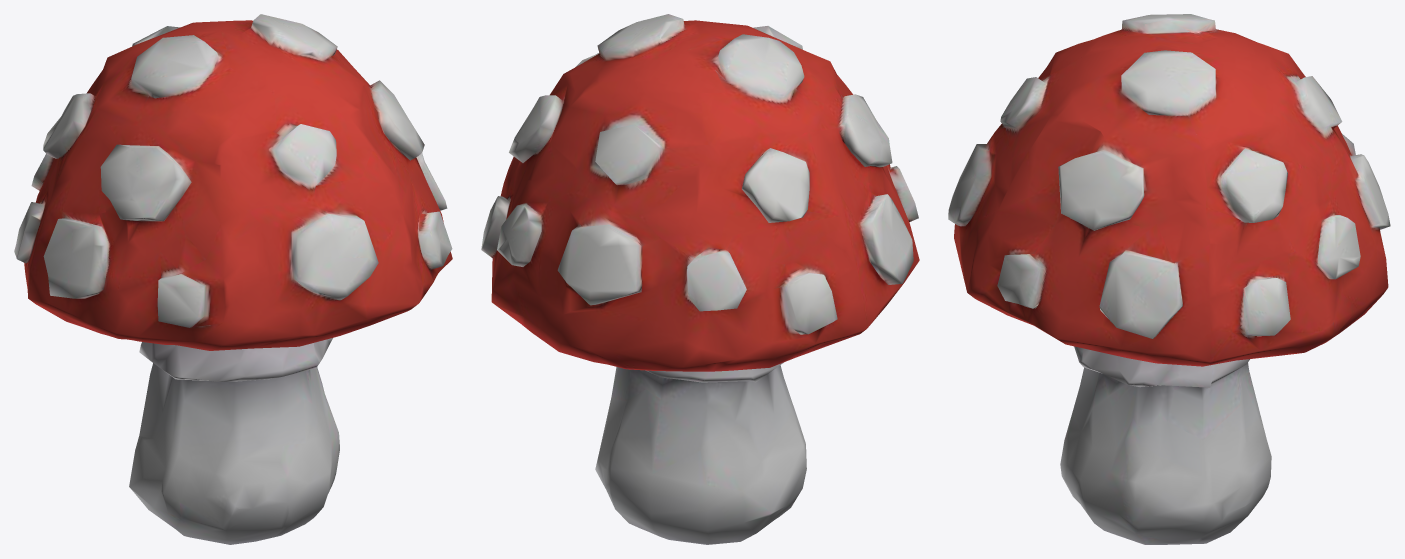
Rendered from giant-mushroom.glb.
3 renders of one model, left to right at view 1: azimuth 30°, elevation 25°; view 2: azimuth 150°, elevation 25°; view 3: azimuth 270°, elevation 25°, orthographic.
Visible parts, largest first — view 1: tripo_node_9ba38119-721f-4bd6-a5c0-3e52b6c29807; view 2: tripo_node_9ba38119-721f-4bd6-a5c0-3e52b6c29807; view 3: tripo_node_9ba38119-721f-4bd6-a5c0-3e52b6c29807.
Boxes of the visible parts, x1,y1,x2,y2 form: tripo_node_9ba38119-721f-4bd6-a5c0-3e52b6c29807: [14, 14, 452, 544]; tripo_node_9ba38119-721f-4bd6-a5c0-3e52b6c29807: [481, 14, 919, 544]; tripo_node_9ba38119-721f-4bd6-a5c0-3e52b6c29807: [948, 14, 1390, 544].
Size of the model in its own units: 0.8266 by 1 by 0.8219.
1 material, 1 textured.
